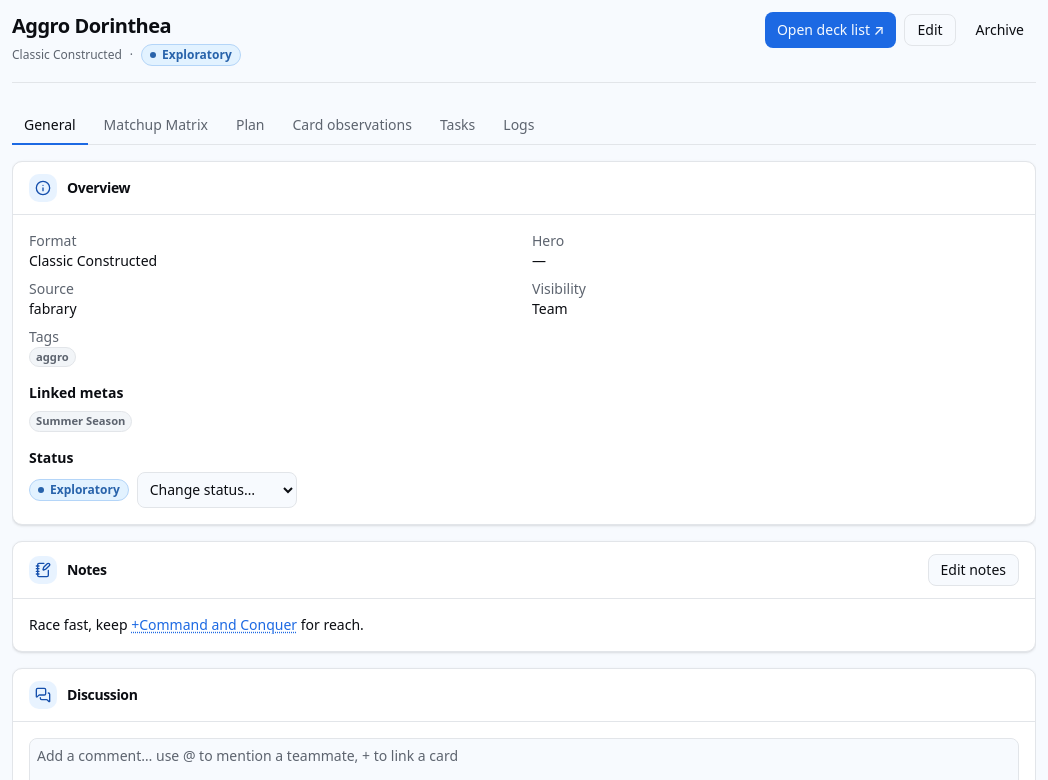
Test: DeckDetail › navigates between tabs, revealing each section
This screenshot has width=1048, height=780.
Click the tab "Matchup Matrix". click: (156, 126)
box: top-left (92, 107), bottom-right (220, 145)
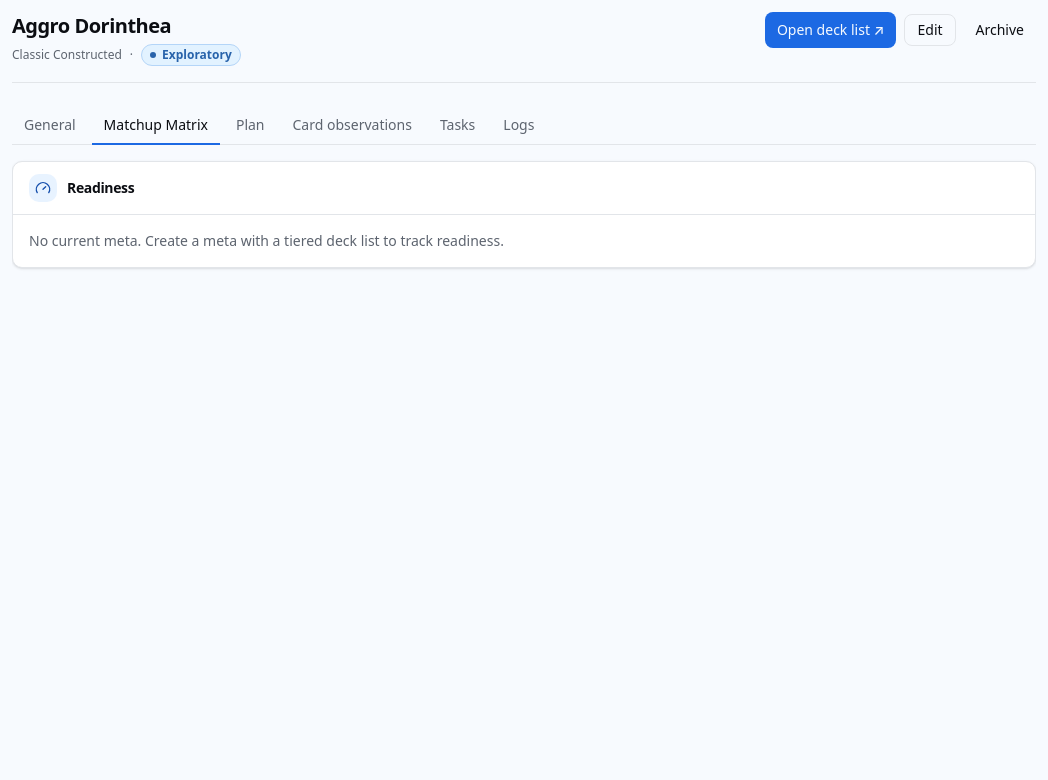
Now the heading "Readiness" is shown, box top-left (67, 178), bottom-right (134, 198)
Click the tab "Plan". click: (250, 126)
box: top-left (224, 107), bottom-right (276, 145)
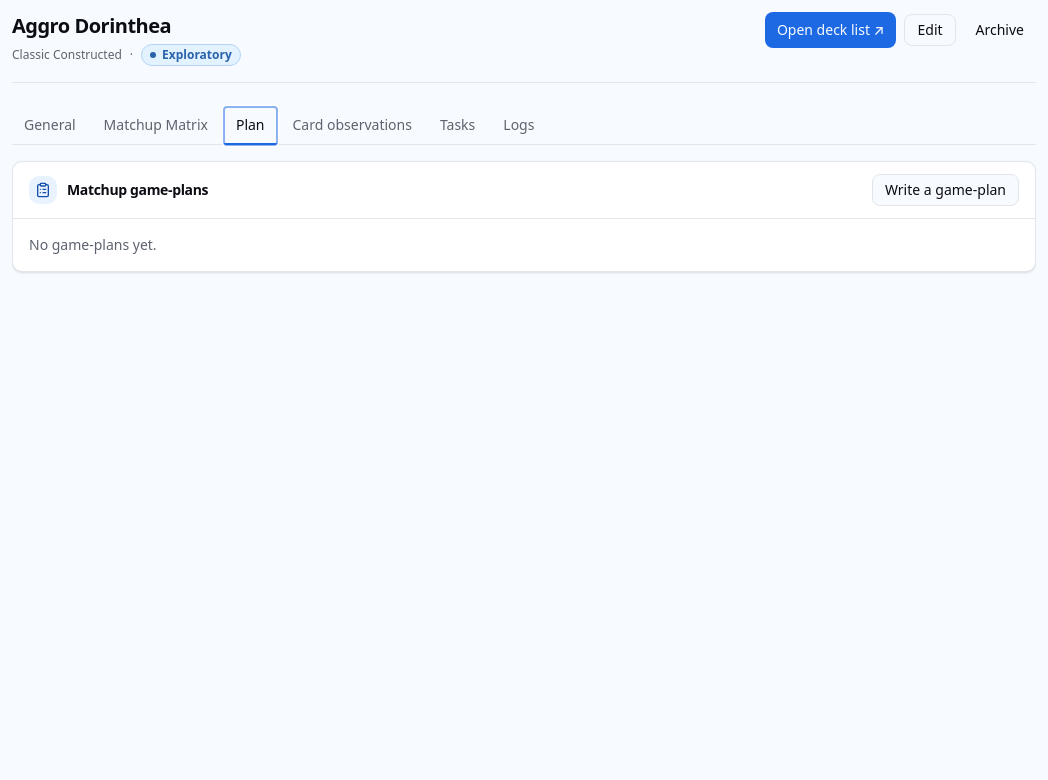
Now the heading "Matchup game-plans" is shown, box top-left (67, 180), bottom-right (208, 200)
Click the tab "Tasks". click: (458, 126)
box: top-left (428, 107), bottom-right (487, 145)
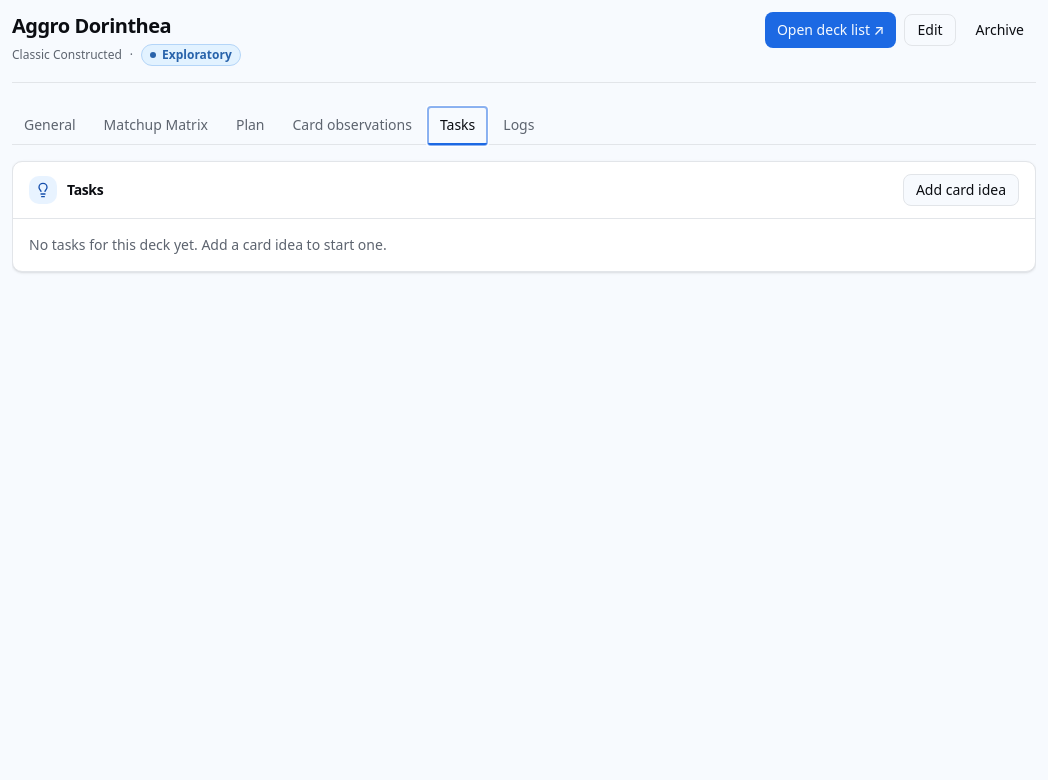
Expected: the heading "Readiness" is not shown
Click the tab "Logs". click: (519, 126)
box: top-left (491, 107), bottom-right (546, 145)
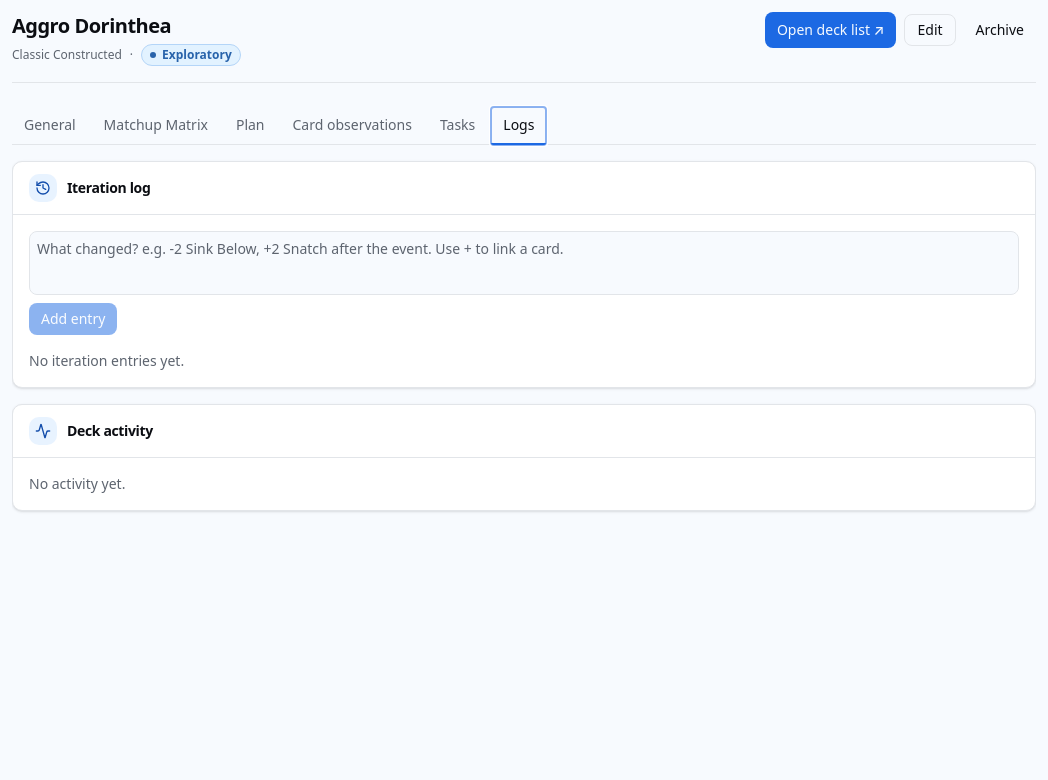
Now the heading "Iteration log" is shown, box top-left (67, 178), bottom-right (150, 198)
Now the heading "Deck activity" is shown, box top-left (67, 421), bottom-right (153, 441)
